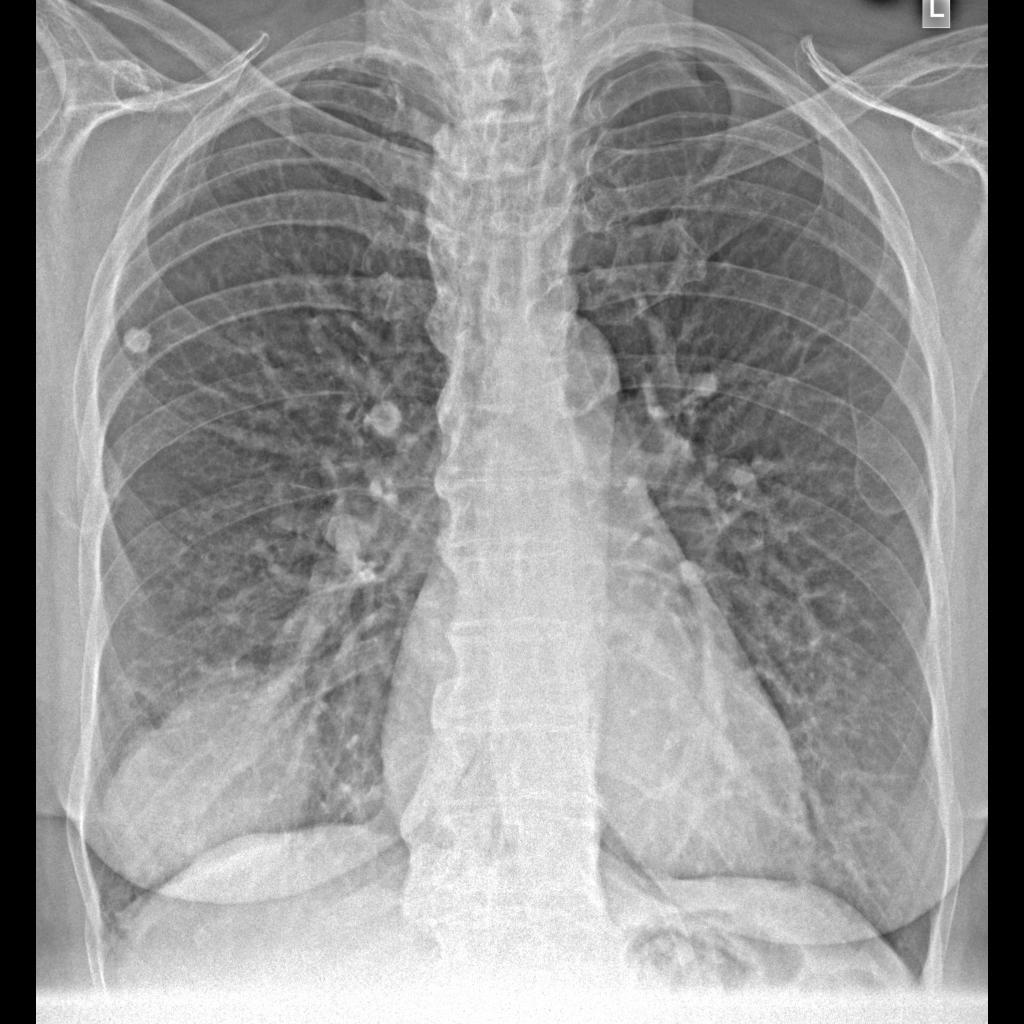Nodule: (354, 395, 414, 467), (121, 321, 163, 368)
